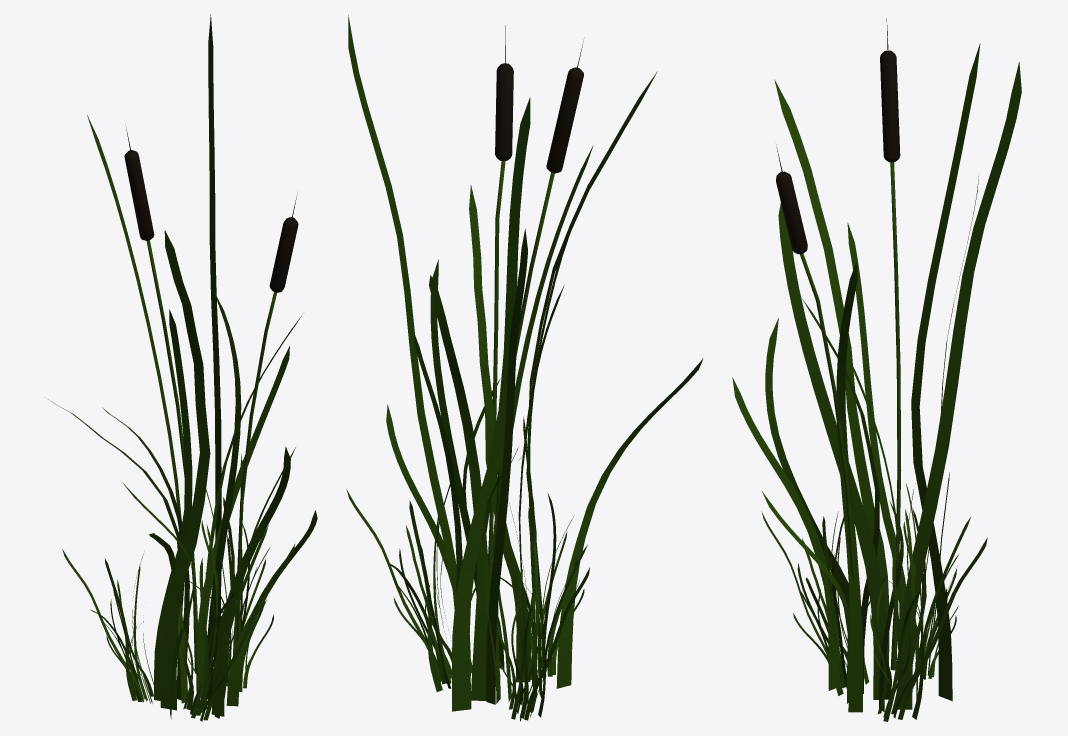
The picture shows the model from 3 angles, left to right: view 1: azimuth 30°, elevation 25°; view 2: azimuth 150°, elevation 25°; view 3: azimuth 270°, elevation 25°; orthographic projection. The views are drawn at different scales.
Visible parts, largest first — view 1: Hi Res Cattail.001_0; view 2: Hi Res Cattail.001_0; view 3: Hi Res Cattail.001_0.
Part boxes in pixels (x1=…): Hi Res Cattail.001_0: x1=48, y1=14, x2=317, y2=721; Hi Res Cattail.001_0: x1=346, y1=15, x2=703, y2=721; Hi Res Cattail.001_0: x1=732, y1=18, x2=1021, y2=721.
Size of the model in its own units: 3.22 by 8.48 by 3.65.
1 material, 1 textured.
